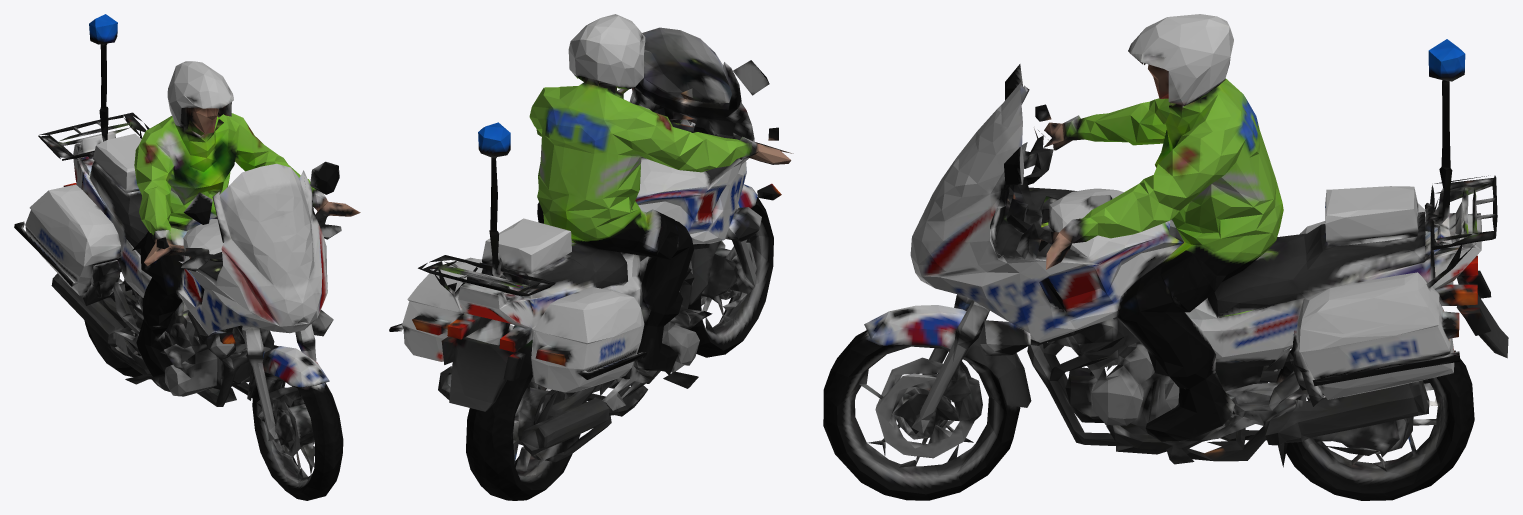
File: motor_patwal_2.glb
3 renders of one model, left to right at view 1: azimuth 30°, elevation 25°; view 2: azimuth 150°, elevation 25°; view 3: azimuth 270°, elevation 25°, orthographic. The views are drawn at different scales.
Visible parts, largest first — view 1: tripo_node_68e16c6c; view 2: tripo_node_68e16c6c; view 3: tripo_node_68e16c6c.
Part boxes in pixels (x1=…): tripo_node_68e16c6c: x1=14, y1=14, x2=360, y2=500; tripo_node_68e16c6c: x1=389, y1=14, x2=793, y2=500; tripo_node_68e16c6c: x1=823, y1=14, x2=1508, y2=500.
Bounding box in the file's own units: 49.2 × 77.34 × 100.
Materials: 1 (1 with a texture image).
